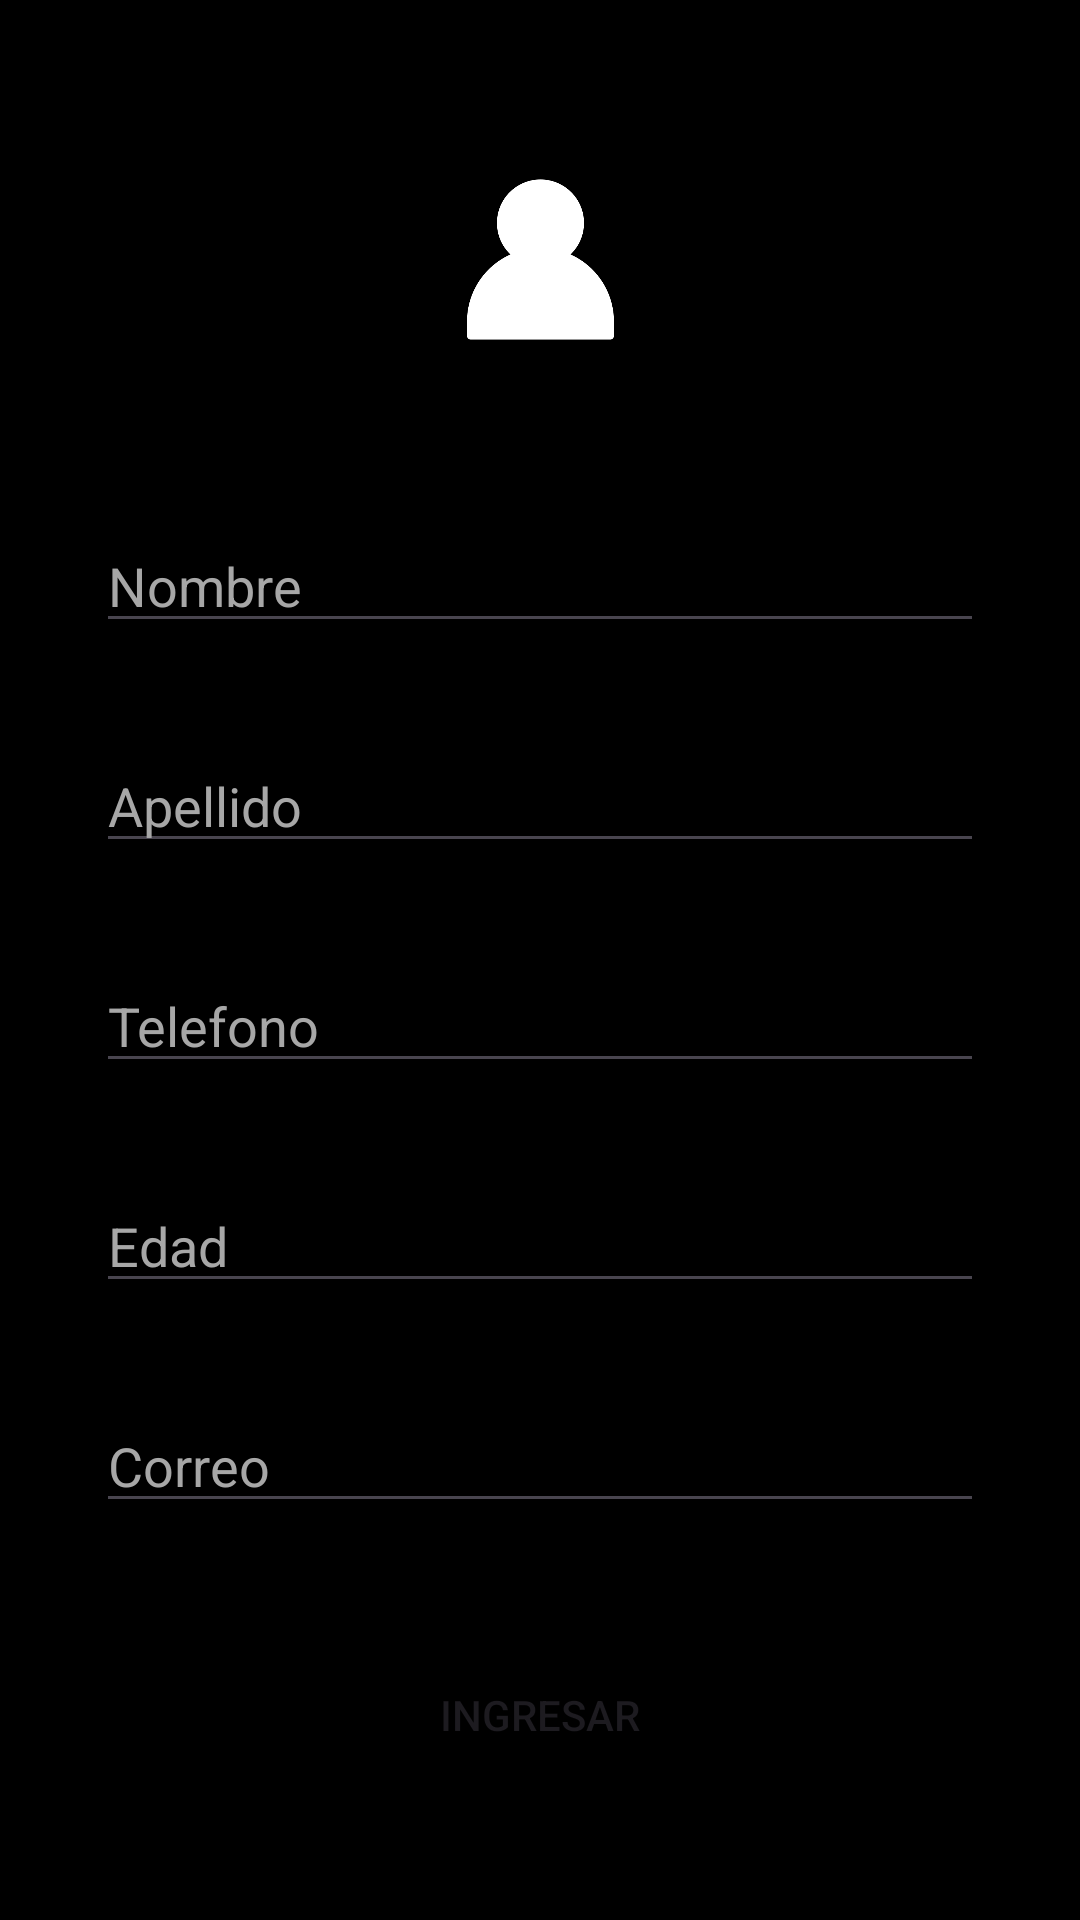

Icons on this 1080x1920 Android screen, each with its box as bbox=[x1, y1, x2, y2]:
user: bbox=[467, 179, 614, 340]
